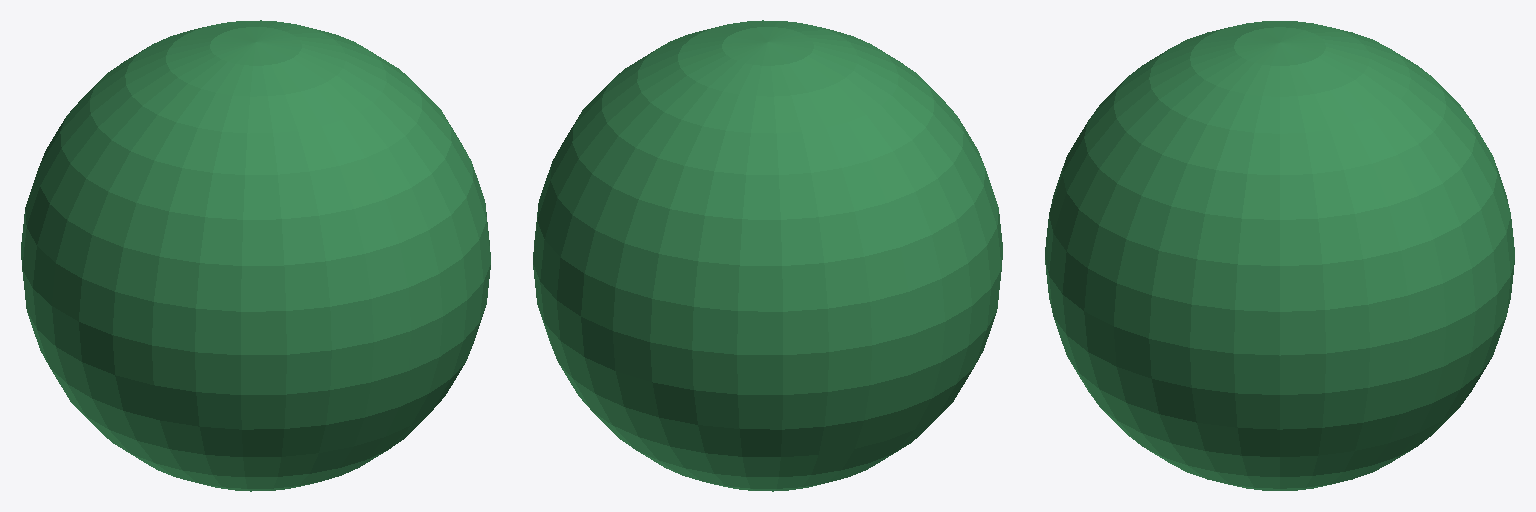
The robot description file, URDF, robot "Pendulum":
<?xml version="1.0"?>

<robot xmlns="https://drake.mit.edu"
 xmlns:xsi="http://www.w3.org/2001/XMLSchema-instance"
 xsi:schemaLocation="https://drake.mit.edu ../../../doc/drakeURDF.xsd" name="Pendulum">
  <material name="green">
 	  <color rgba=".3 .6 .4 1" />
  </material>
  <material name="red">
    <color rgba=".9 .1 0 1" />
  </material>
  <material name="blue">
    <color rgba="0 0 1 1" />
  </material>

  <link name="world" drake_ignore="true" />
  <link name="base_part2">
    <inertial>
      <origin xyz="0 0 .015" rpy="0 0 0"/>
      <mass value="1"/>
      <inertia ixx="0" ixy="0" ixz="0" iyy="0" iyz="0" izz="0" />
    </inertial>
    <visual>
      <origin xyz="0 0 .015" />
      <geometry>
        <sphere radius=".015" />
      </geometry> 
      <material name="green" />
    </visual>
  </link>
  <joint name="base_weld" type="fixed" drake_ignore="true">
    <parent link="world" />
    <child link="base_part2" />
    <origin xyz="0 0 0" />
  </joint>
  <link name="arm">
    <inertial> 
      <origin xyz="0 0 -.5" rpy="0 0 0" />
      <mass value="0.5" />
      <inertia ixx="0" ixy="0" ixz="0" iyy="0" iyz="0" izz="0"/> 
    </inertial>
<!--
    <visual>
      <origin xyz="0 0 -.375" rpy="0 0 0" />
      <geometry>
         <cylinder length=".75" radius=".01" />
      </geometry>
      <material name="red" />
    </visual> 
-->
  </link>
  <joint name="theta" type="continuous">
    <parent link="base_part2"/>
    <child link="arm" />
    <axis xyz="0 -1 0" />
    <dynamics damping="0.1" />
  </joint>
</robot>

--- What the picture shows (computed from the rendered views, not written in the file) ---
The picture shows the robot from 3 angles, left to right: view 1: azimuth 30°, elevation 25°; view 2: azimuth 150°, elevation 25°; view 3: azimuth 270°, elevation 25°; orthographic projection.
Robot: Pendulum — 3 links, 2 joints (1 continuous, 1 fixed); root link world; default pose: all joints at 0.
Visible links, largest first — view 1: base_part2; view 2: base_part2; view 3: base_part2.
Boxes of the visible links, x1,y1,x2,y2 form: base_part2: (21, 20, 490, 491); base_part2: (533, 20, 1002, 491); base_part2: (1045, 21, 1514, 490).
Bounding box of the posed robot: 0.03 × 0.03 × 0.03 m (x, y, z).
Geometry: primitives only (box / cylinder / sphere), no mesh files.